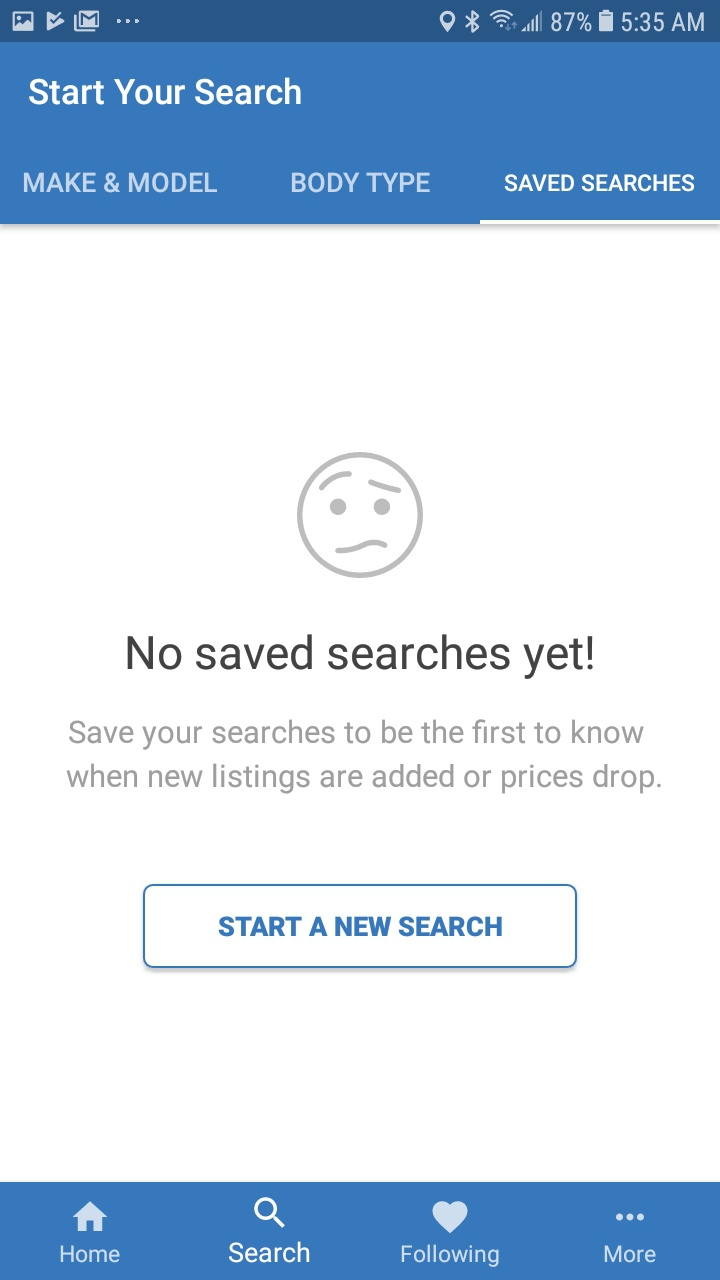Icon: (432, 1200, 469, 1234), (73, 1200, 109, 1232), (254, 1196, 286, 1229)
Image: (297, 451, 424, 579)
PageIndicator: (615, 1212, 645, 1222)
Text: (66, 718, 662, 795), (127, 633, 594, 680), (29, 77, 302, 106), (24, 172, 218, 194), (504, 174, 695, 193), (291, 172, 431, 194), (401, 1243, 500, 1268), (229, 1241, 311, 1264), (60, 1244, 121, 1263), (604, 1244, 657, 1264)
TextButton: (143, 884, 578, 969)
UpperTaskBar: (1, 1, 720, 43)
